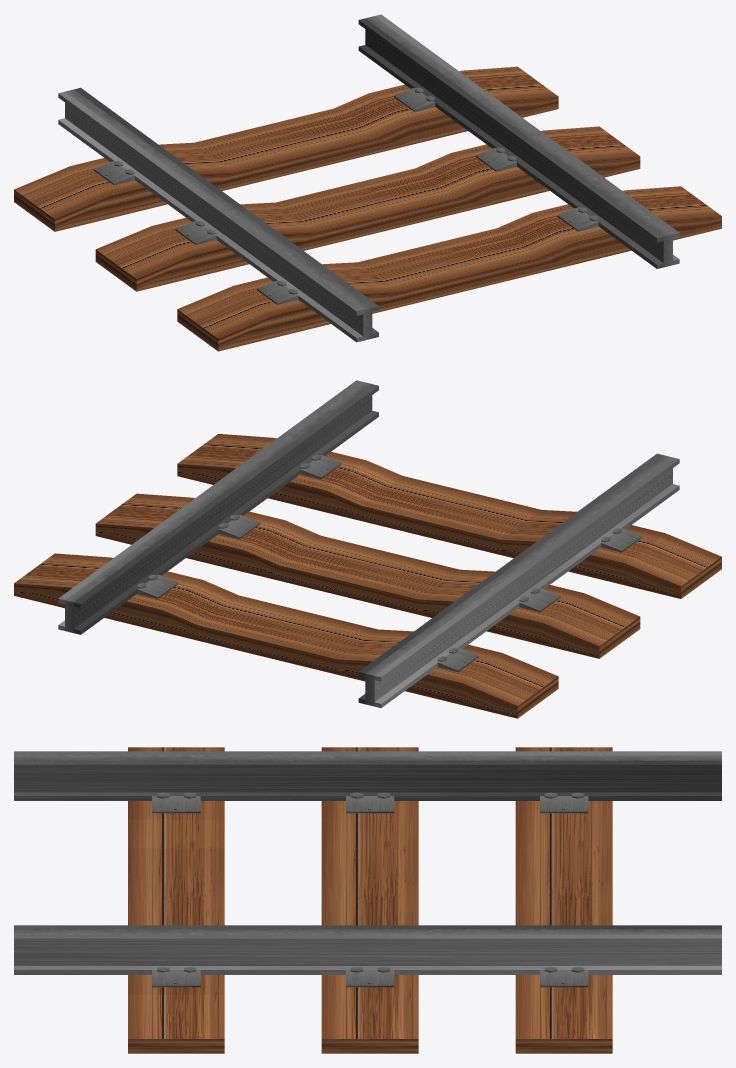
The model's file is Railway_1_1_0.1_Colored.fbx.
3 views of the same model, one above another, from view 1: azimuth 30°, elevation 25°; view 2: azimuth 150°, elevation 25°; view 3: azimuth 270°, elevation 25° (orthographic). The views are drawn at different scales.
Parts seen in each view (by area): view 1: Rail (×2), Rail_Track_Base3, Rail_Track_Base4, Rail_Track_Base5, Rail_Lock2, Rail_Lock5, Rail_Lock4, Rail_Lock7, Rail_Lock3, Rail_Lock6; view 2: Rail (×2), Rail_Track_Base5, Rail_Track_Base4, Rail_Track_Base3, Rail_Lock3, Rail_Lock7, Rail_Lock2, Rail_Lock5, Rail_Lock6, Rail_Lock4; view 3: Rail (×2), Rail_Track_Base4, Rail_Track_Base5, Rail_Track_Base3, Rail_Lock4, Rail_Lock5, Rail_Lock7, Rail_Lock2, Rail_Lock6, Rail_Lock3.
Boxes of the visible parts, left/top/right/bottom form: Rail (×2): left=58, top=14, right=679, bottom=342; Rail_Track_Base3: left=177, top=186, right=721, bottom=351; Rail_Track_Base4: left=95, top=126, right=640, bottom=291; Rail_Track_Base5: left=14, top=66, right=558, bottom=231; Rail_Lock2: left=394, top=88, right=435, bottom=111; Rail_Lock5: left=257, top=280, right=298, bottom=304; Rail_Lock4: left=557, top=207, right=598, bottom=231; Rail_Lock7: left=175, top=221, right=216, bottom=244; Rail_Lock3: left=93, top=161, right=134, bottom=185; Rail_Lock6: left=475, top=147, right=516, bottom=171; Rail (×2): left=58, top=380, right=679, bottom=707; Rail_Track_Base5: left=14, top=553, right=558, bottom=718; Rail_Track_Base4: left=95, top=493, right=640, bottom=658; Rail_Track_Base3: left=177, top=434, right=721, bottom=598; Rail_Lock3: left=437, top=648, right=478, bottom=671; Rail_Lock7: left=519, top=588, right=560, bottom=612; Rail_Lock2: left=137, top=574, right=178, bottom=598; Rail_Lock5: left=601, top=528, right=642, bottom=552; Rail_Lock6: left=219, top=515, right=260, bottom=538; Rail_Lock4: left=300, top=455, right=341, bottom=479; Rail (×2): left=14, top=751, right=721, bottom=974; Rail_Track_Base4: left=321, top=747, right=418, bottom=1053; Rail_Track_Base5: left=515, top=747, right=612, bottom=1053; Rail_Track_Base3: left=128, top=747, right=224, bottom=1053; Rail_Lock4: left=152, top=796, right=200, bottom=813; Rail_Lock5: left=152, top=970, right=200, bottom=987; Rail_Lock7: left=346, top=970, right=394, bottom=987; Rail_Lock2: left=540, top=796, right=588, bottom=813; Rail_Lock6: left=346, top=796, right=394, bottom=813; Rail_Lock3: left=540, top=970, right=588, bottom=987.
Bounding box in the file's own units: 97.48 × 9.8 × 100.
Materials: 2 (2 with a texture image).
